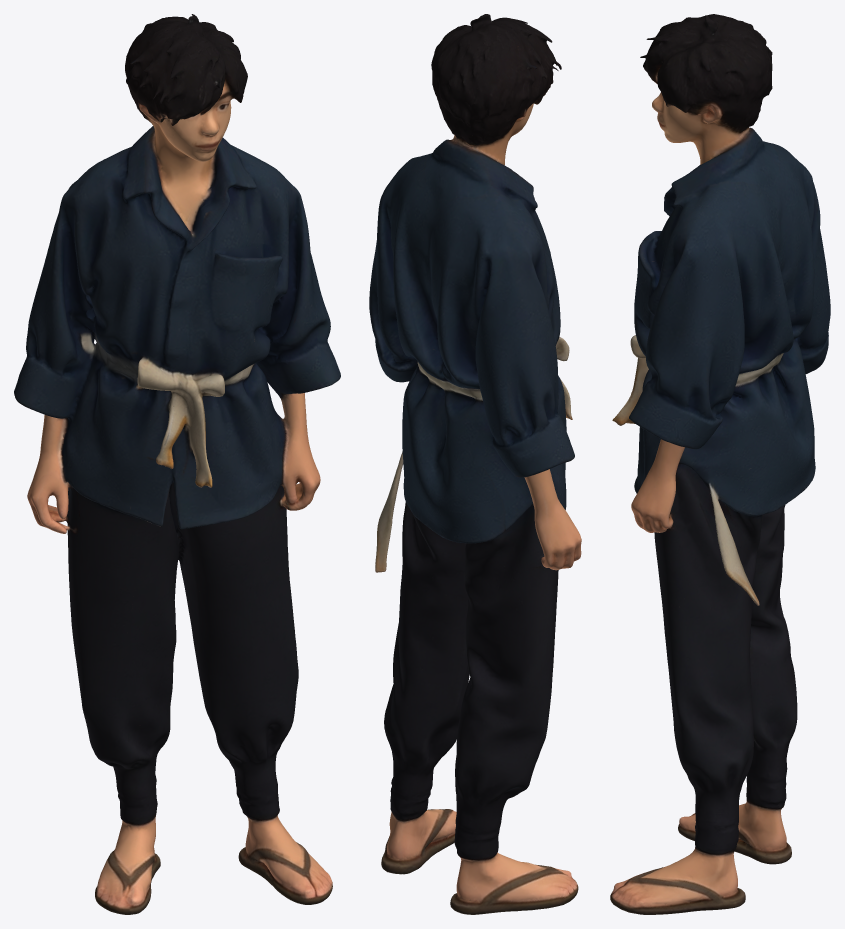
File: villager.glb
3 renders of one model, left to right at view 1: azimuth 30°, elevation 25°; view 2: azimuth 150°, elevation 25°; view 3: azimuth 270°, elevation 25°, orthographic. The views are drawn at different scales.
Size of the model in its own units: 0.5842 by 1.9 by 0.4466.
Materials: 1 (1 with a texture image).
